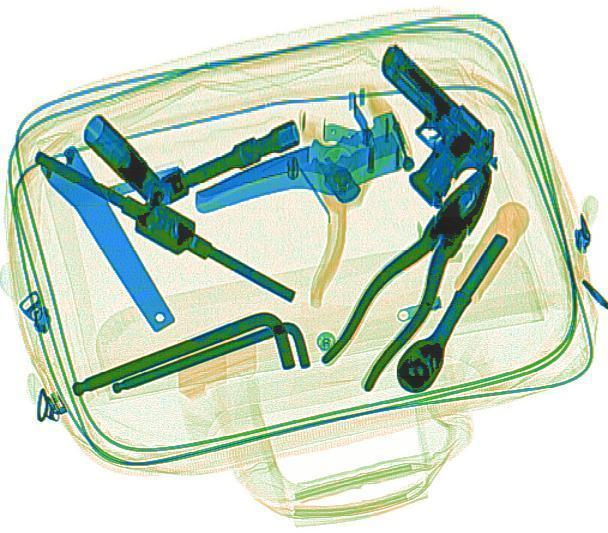Gun: (310, 41, 515, 209)
Pliers: (310, 153, 520, 393)
